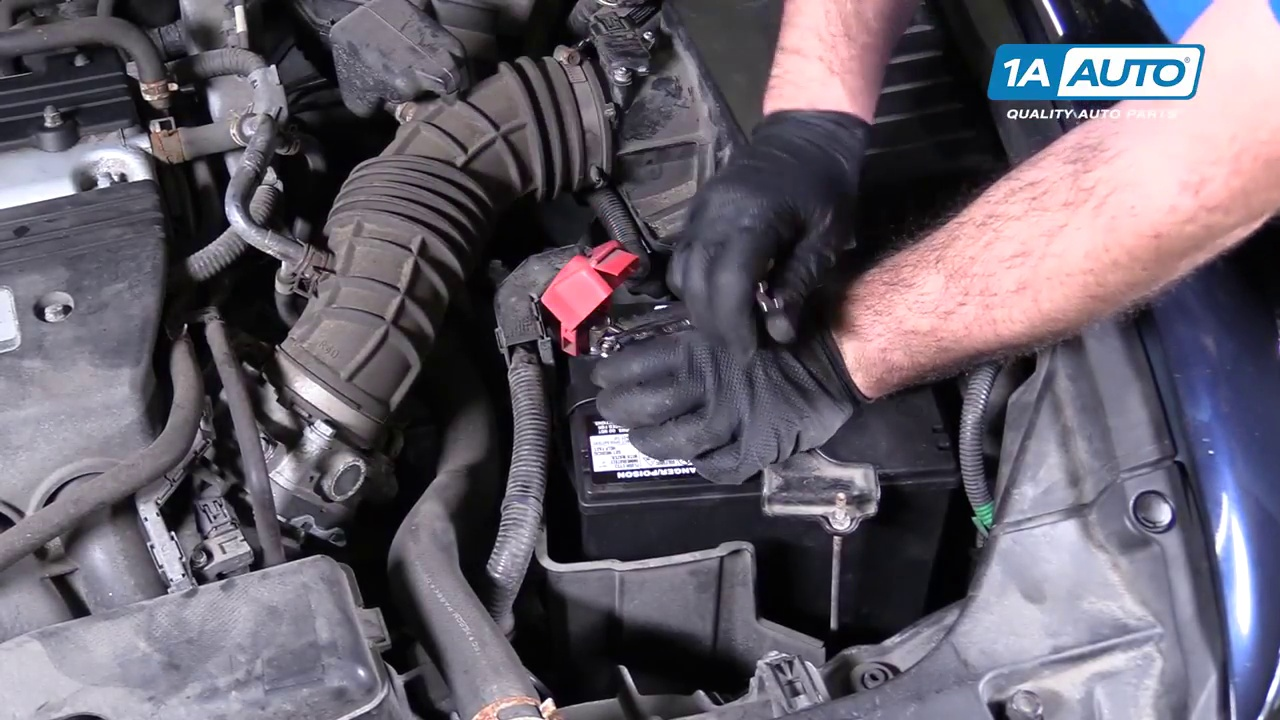battery: (564, 308, 962, 488)
pos_touched: (507, 226, 745, 418)
